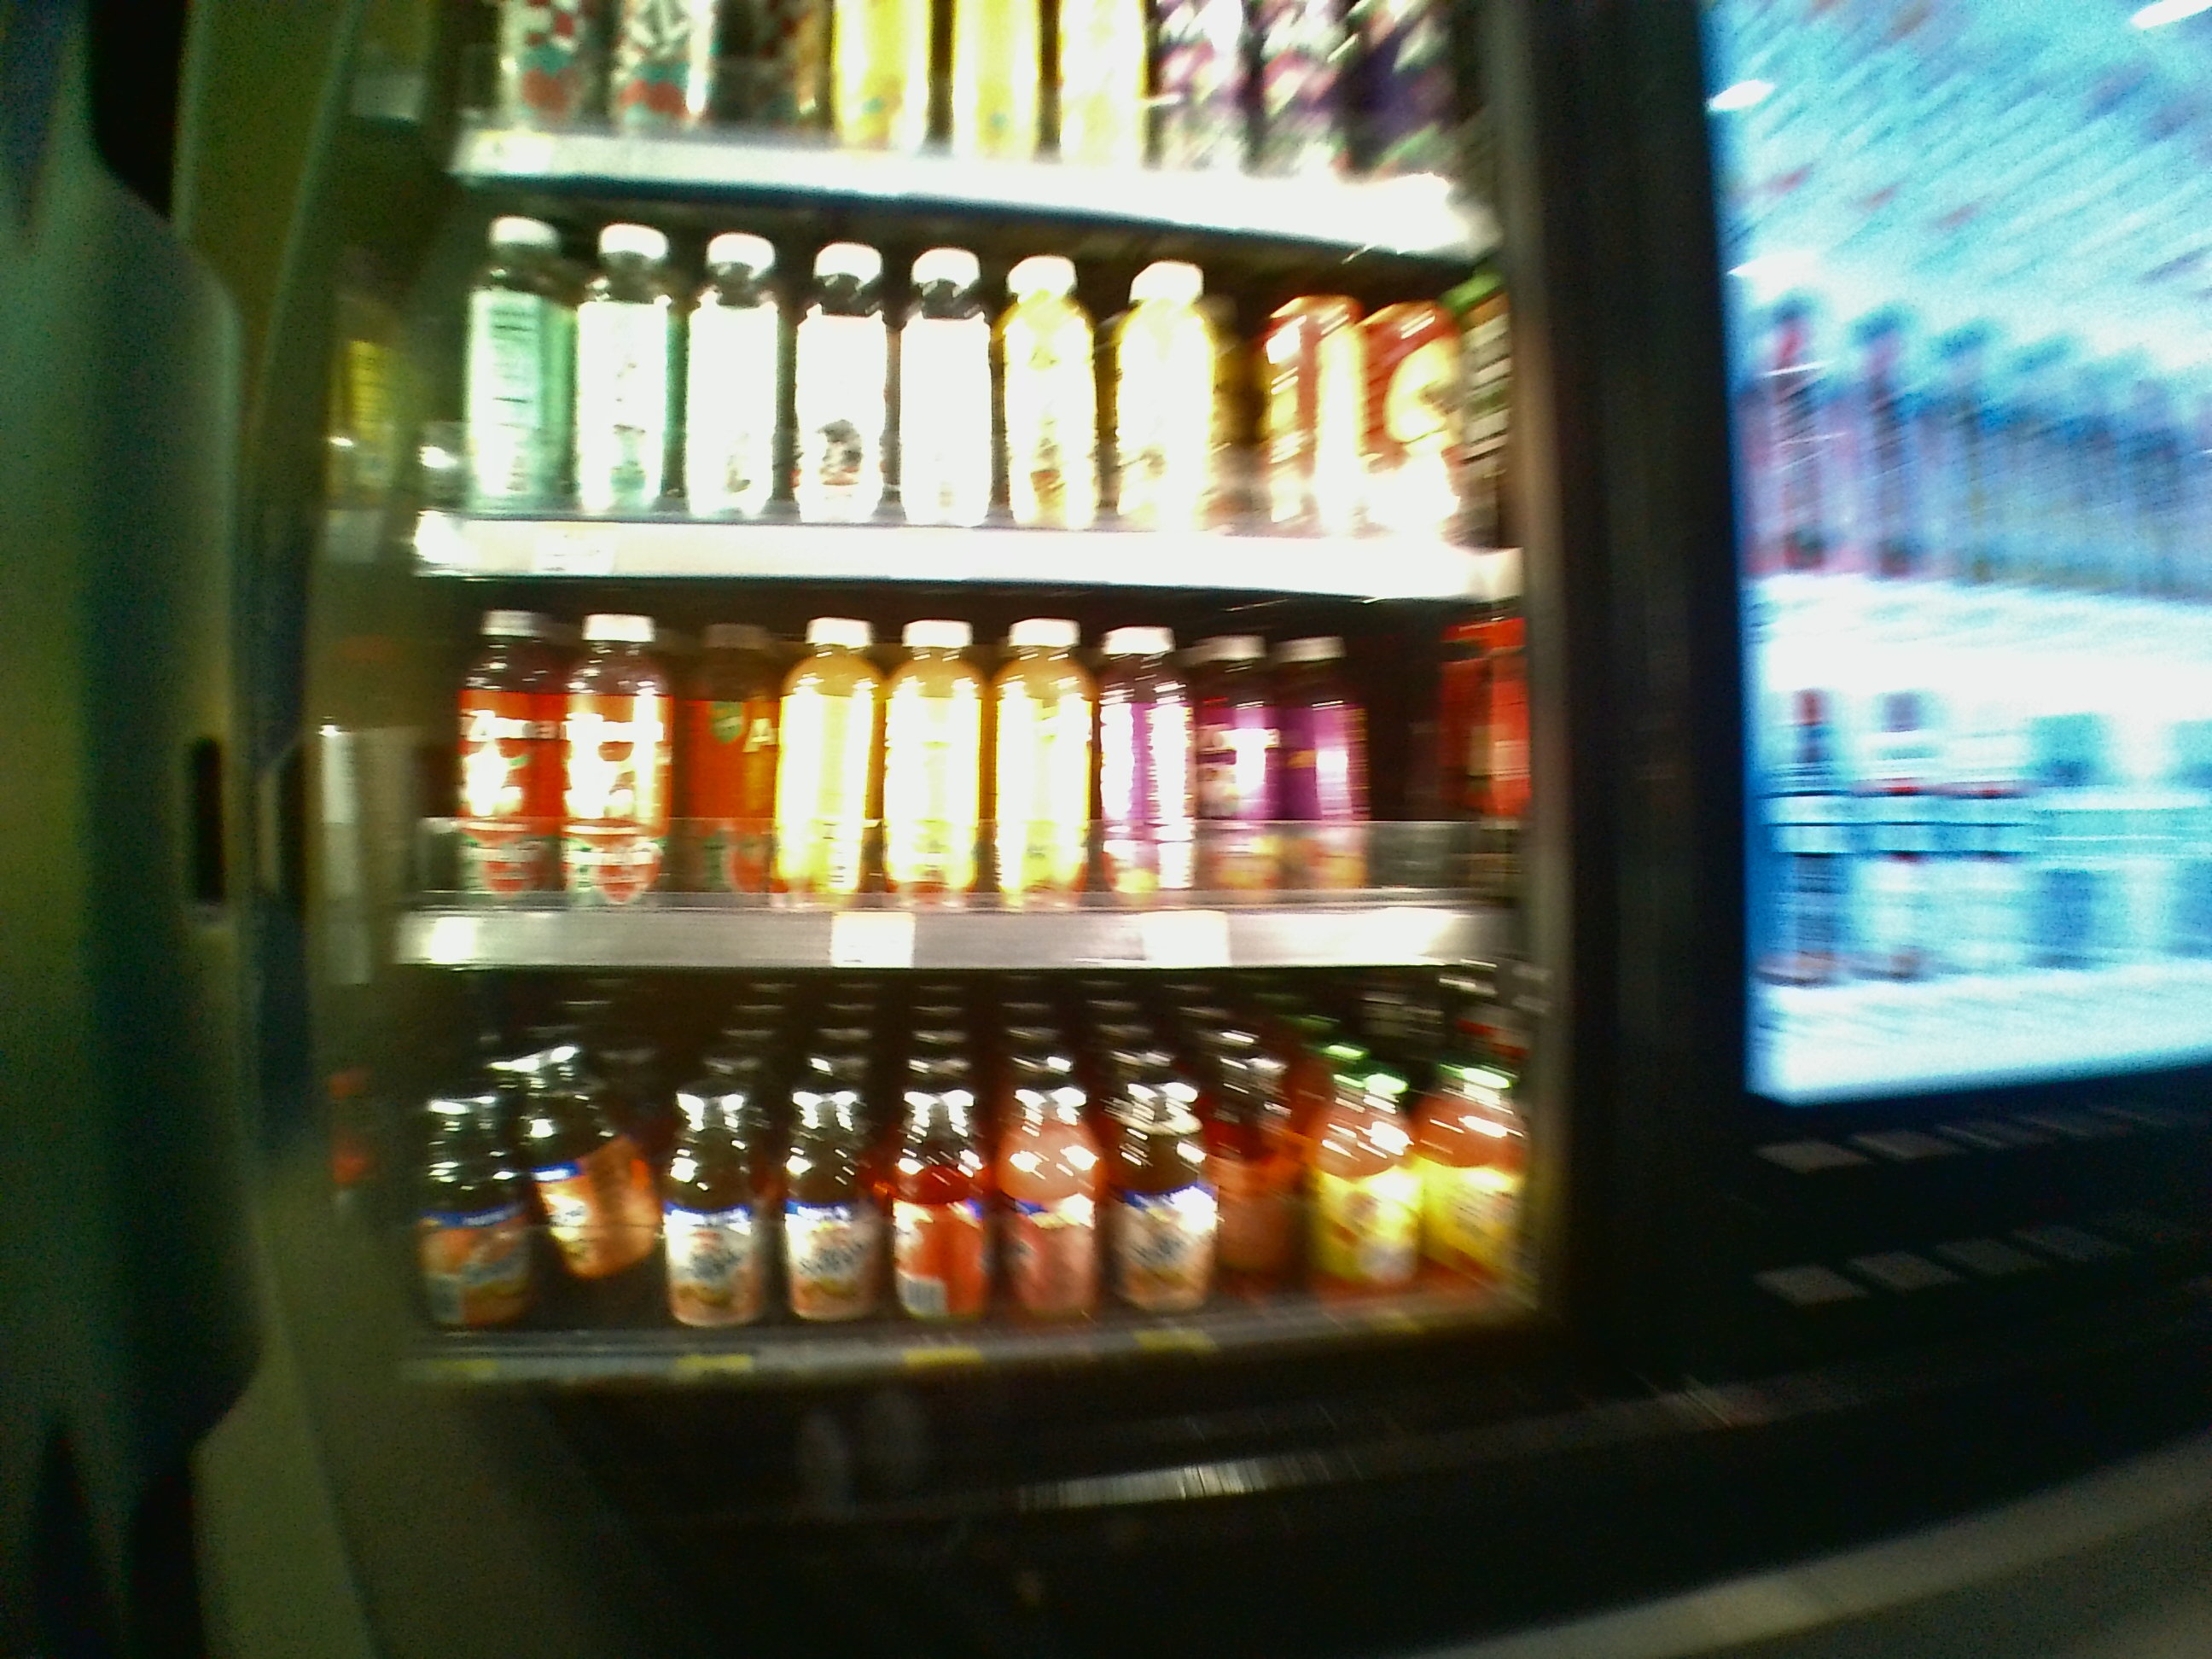shelf: (406, 983, 1529, 1391), (399, 174, 1508, 580), (401, 591, 1524, 969)
